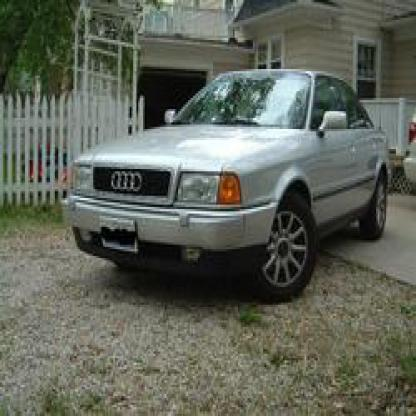Vehicle: (63, 67, 400, 307)
